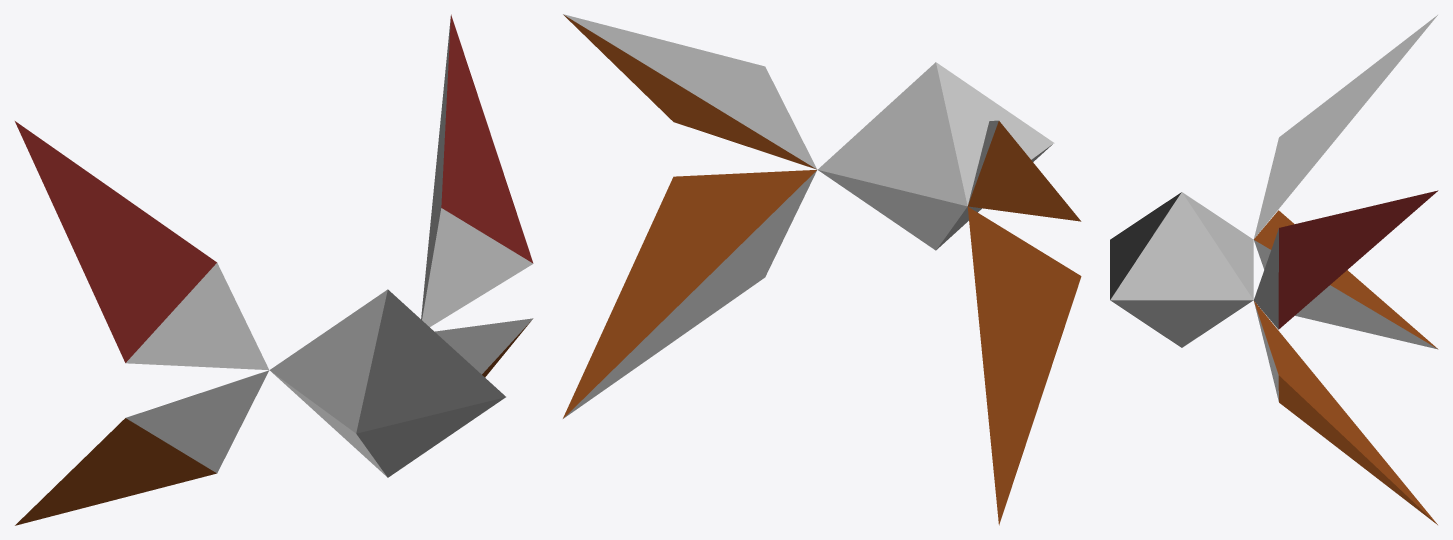
Rendered from Elemental Dart.obj.
The picture shows the model from 3 angles, left to right: view 1: azimuth 30°, elevation 25°; view 2: azimuth 150°, elevation 25°; view 3: azimuth 270°, elevation 25°; orthographic projection. The views are drawn at different scales.
Parts seen in each view (by area): view 1: Dart; view 2: Dart; view 3: Dart.
Boxes of the visible parts, x1=… form: Dart: x1=15, y1=14, x2=533, y2=525; Dart: x1=563, y1=14, x2=1081, y2=525; Dart: x1=1110, y1=15, x2=1438, y2=524.
Bounding box in the file's own units: 1.45 × 1.29 × 1.14.
